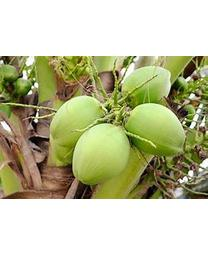coconut: (71, 123, 131, 186), (123, 102, 186, 158), (48, 95, 112, 147), (119, 64, 172, 107)
